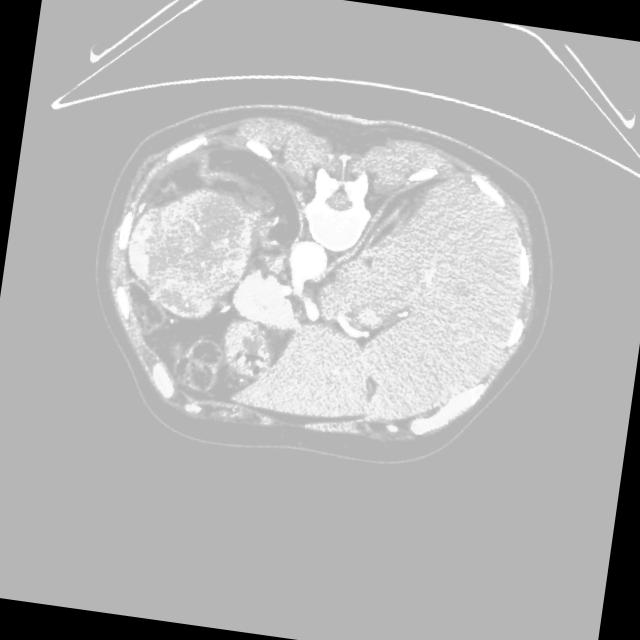TUMOR: (101, 160, 333, 359)
